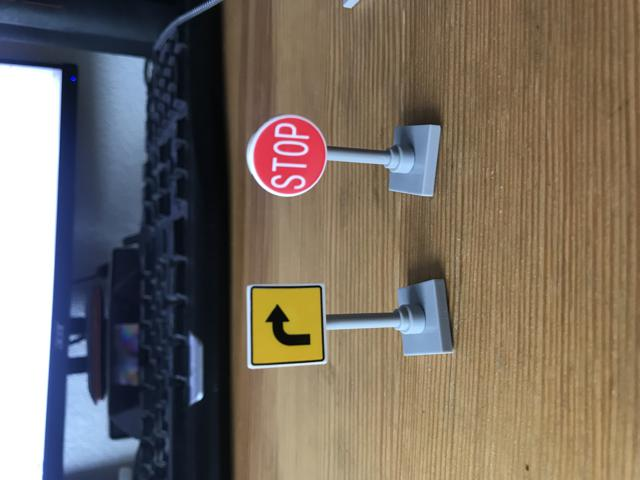fahrtrichtung rechts: (144, 43, 268, 189)
stop: (377, 44, 492, 188)
